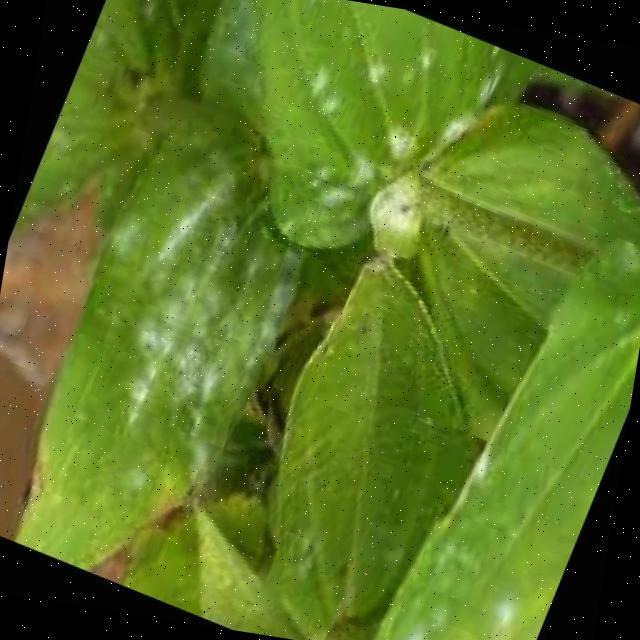Septoria_Blight: (37, 110, 344, 519), (324, 38, 542, 306)
